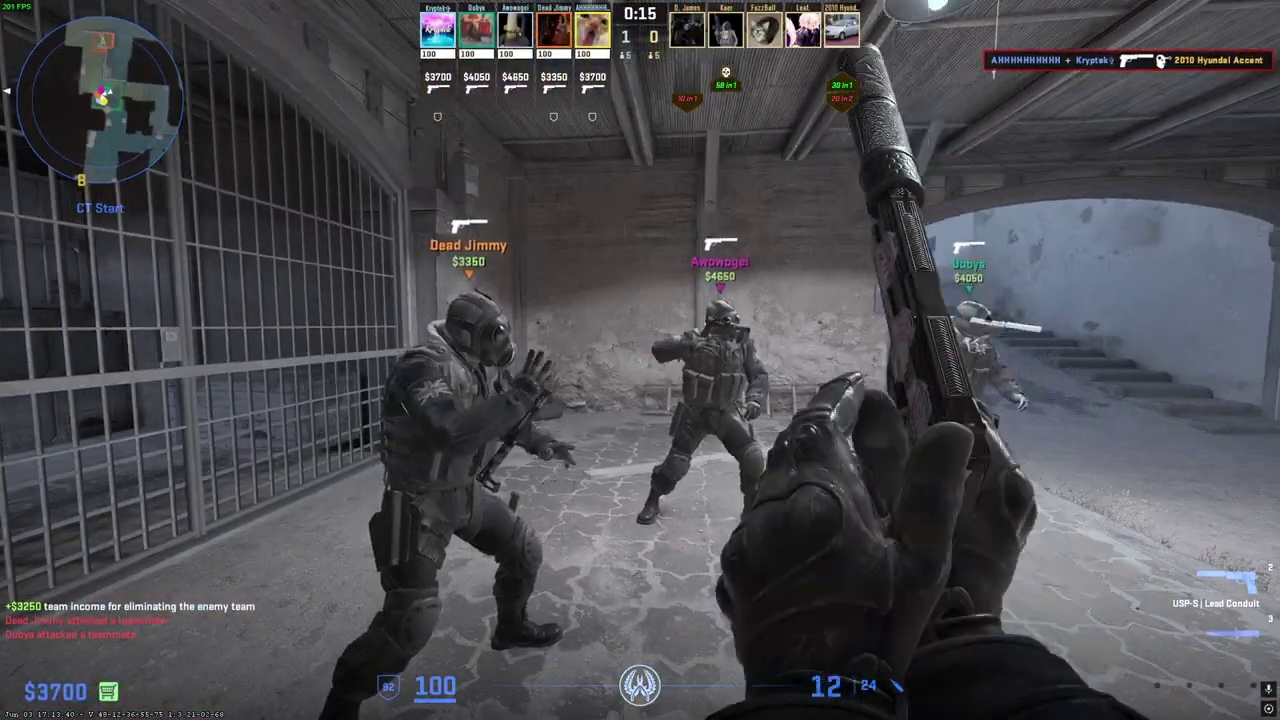CT: (342, 287, 574, 713), (639, 298, 768, 526), (935, 300, 1010, 429)
